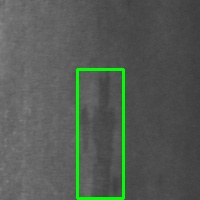inclusion: (77, 69, 123, 198)
